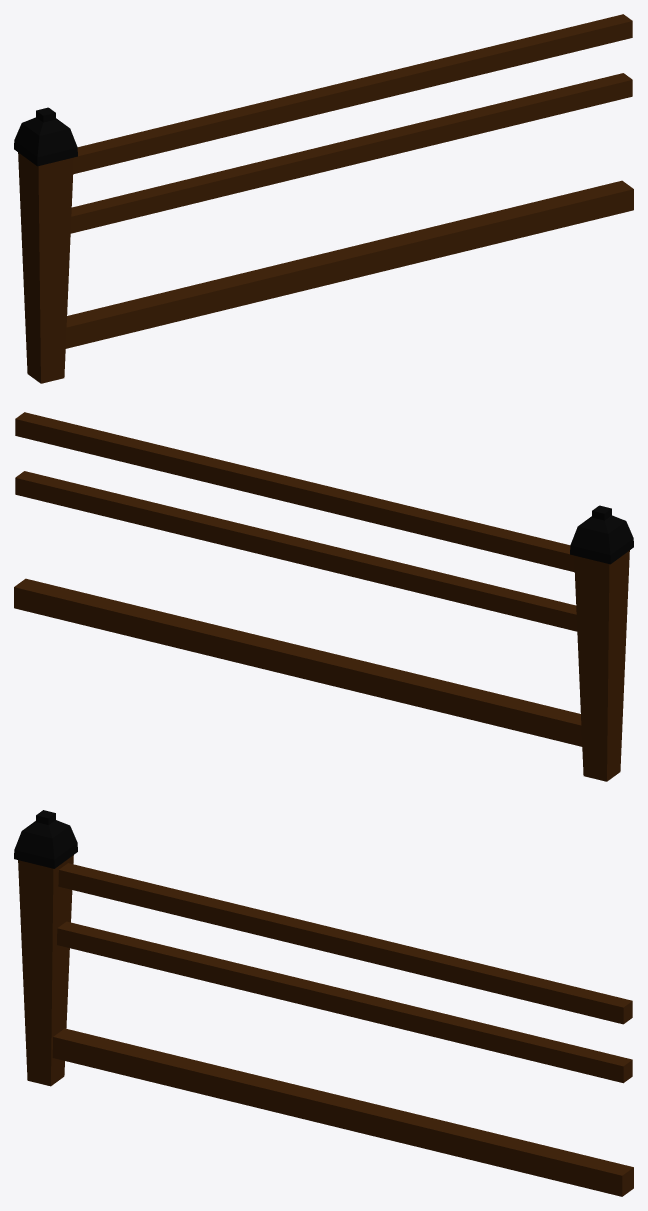
Rendered from picket.glb.
The picture shows the model from 3 angles, top to bottom: view 1: azimuth 30°, elevation 25°; view 2: azimuth 150°, elevation 25°; view 3: azimuth 330°, elevation 25°; orthographic projection.
Parts seen in each view (by area): view 1: Cube; view 2: Cube; view 3: Cube.
Boxes of the visible parts, x1=… form: Cube: x1=14, y1=14, x2=633, y2=383; Cube: x1=14, y1=412, x2=633, y2=781; Cube: x1=14, y1=810, x2=633, y2=1196.
Size of the model in its own units: 10.34 by 4.33 by 0.6957.
